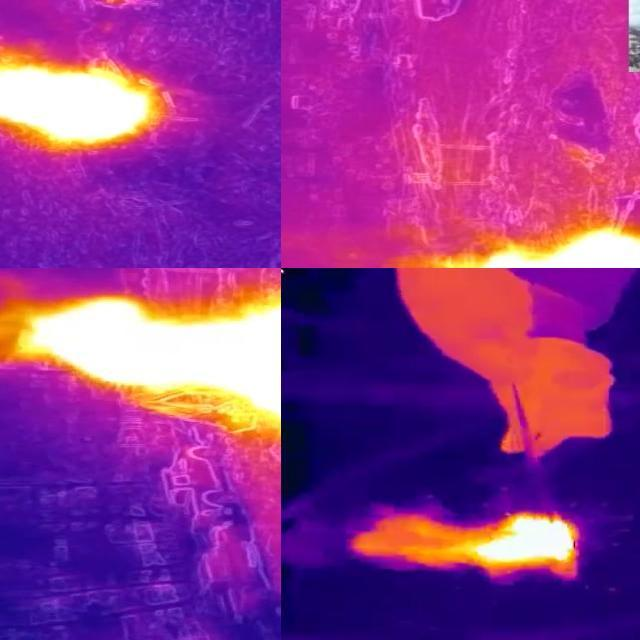fire: (16, 291, 282, 431), (1, 50, 156, 148), (381, 513, 583, 583), (448, 228, 640, 269)
